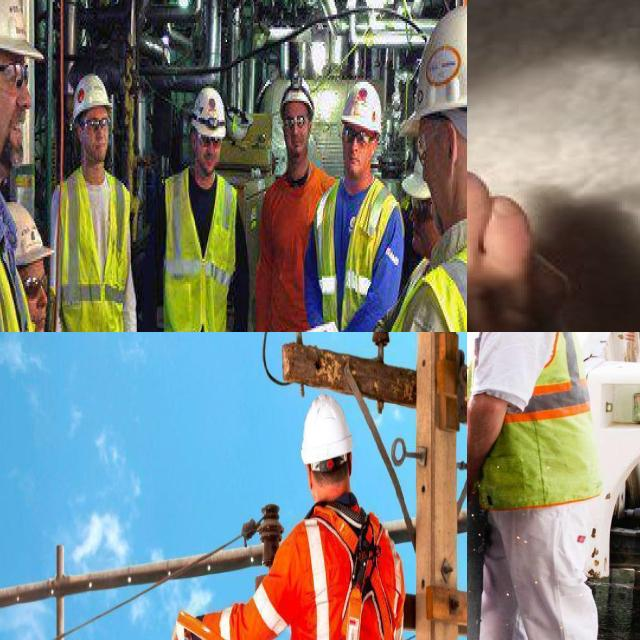Barefoots: (467, 134, 610, 332)
No_Ear-Protection: (442, 114, 462, 178)
face_nomask: (407, 115, 467, 239), (0, 50, 33, 163), (344, 126, 375, 181), (284, 105, 316, 158), (189, 129, 221, 182), (86, 96, 114, 154)
glasses: (0, 58, 32, 92), (342, 124, 375, 151), (82, 112, 112, 134), (284, 112, 310, 136)
hand_noglove: (467, 453, 492, 519)
head_helmet: (401, 0, 467, 130), (288, 378, 367, 463), (332, 75, 384, 138), (0, 0, 43, 73), (187, 65, 229, 137), (71, 66, 116, 113), (279, 72, 318, 116)
person: (467, 332, 640, 640), (263, 389, 400, 640), (314, 27, 404, 332), (157, 33, 243, 332), (395, 0, 467, 332), (256, 52, 340, 332), (52, 48, 132, 332), (0, 0, 48, 332)
vest: (467, 332, 603, 519), (283, 496, 412, 640), (42, 164, 138, 332), (160, 157, 242, 332), (316, 164, 400, 332)
